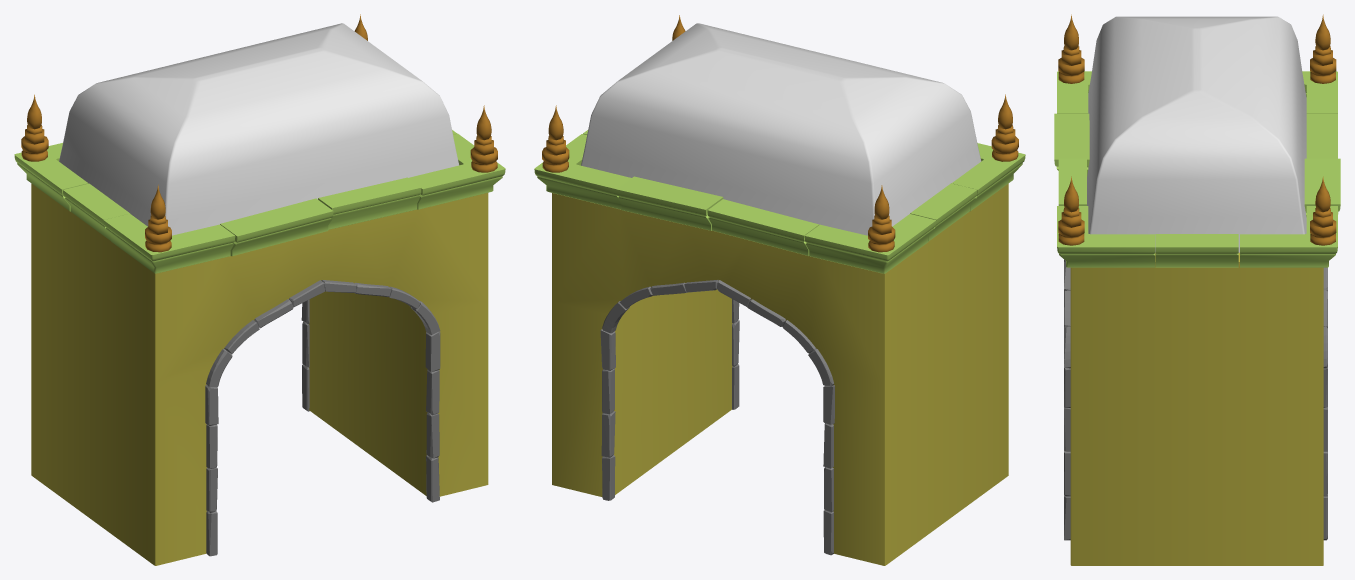
File: SM_building_india_gate.fbx
3 renders of one model, left to right at view 1: azimuth 30°, elevation 25°; view 2: azimuth 150°, elevation 25°; view 3: azimuth 270°, elevation 25°, orthographic.
Visible parts, largest first — view 1: Object32670; view 2: Object32670; view 3: Object32670.
Boxes of the visible parts, <box> form: Object32670: <box>14,14,505,565</box>; Object32670: <box>534,15,1025,565</box>; Object32670: <box>1054,14,1340,565</box>.
Bounding box in the file's own units: 295 × 331 × 203.
